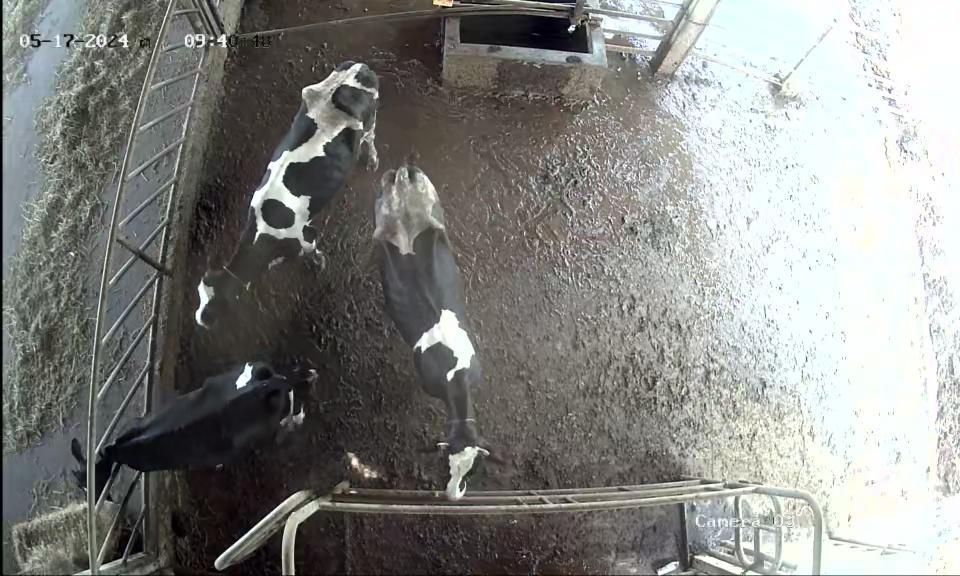eat: (56, 418, 175, 513)
stand: (352, 158, 507, 506), (193, 57, 384, 337)
